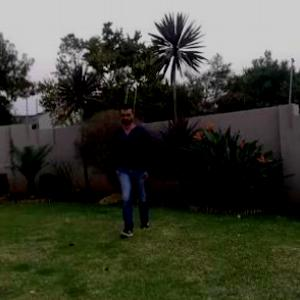follow: (116, 106, 151, 227)
